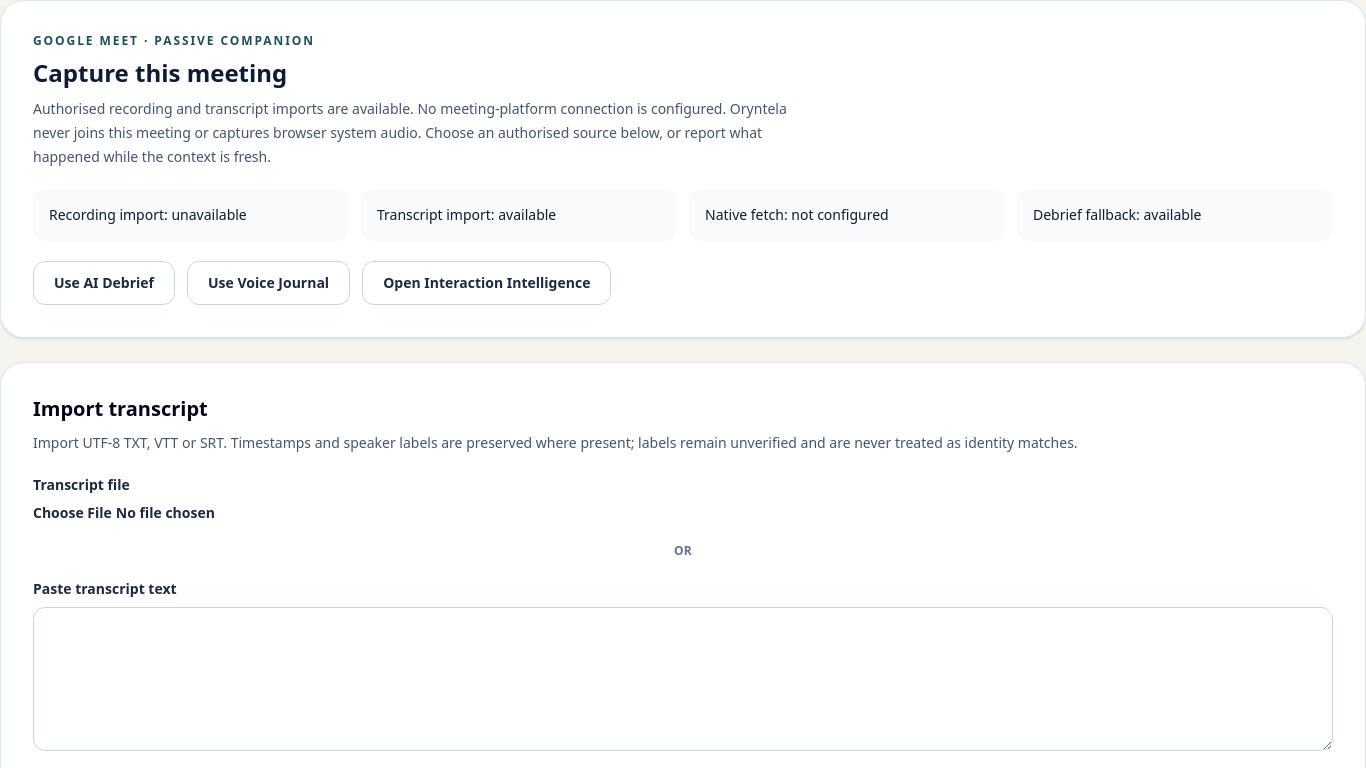
OnlineMeetingCapture › shows server capabilities and imports an authorised pasted transcript
Expected: the heading "Capture this meeting" is shown, [33,56,287,89]
Expected: the list item "Native fetch: not configured" is shown, [689,189,1005,241]
Step 1. Type "Customer: Ready to pilot" into the text box labelled "Paste transcript text" → coordinates (683, 679), box [33,607,1333,751]
(page scrolled)
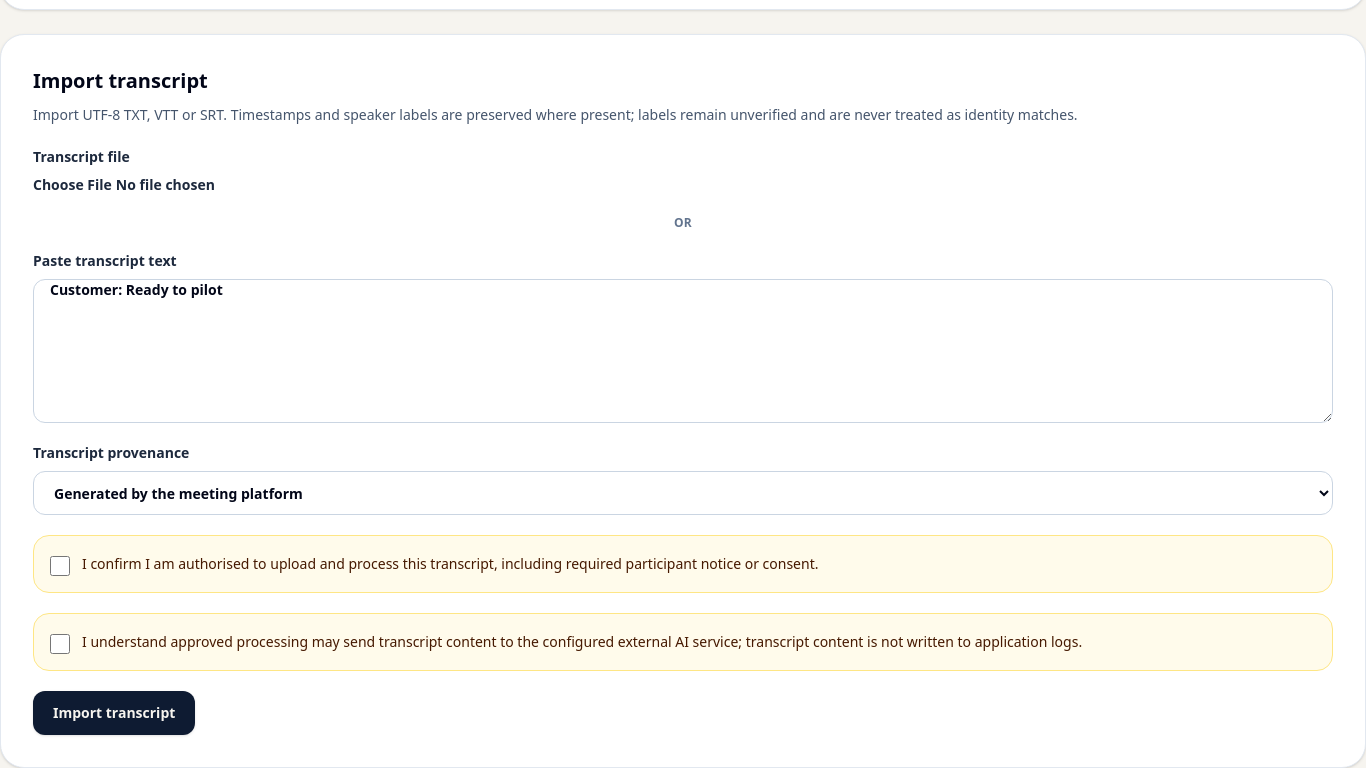
Step 2. Click the 1st checkbox → coordinates (60, 566), box [50,556,70,576]
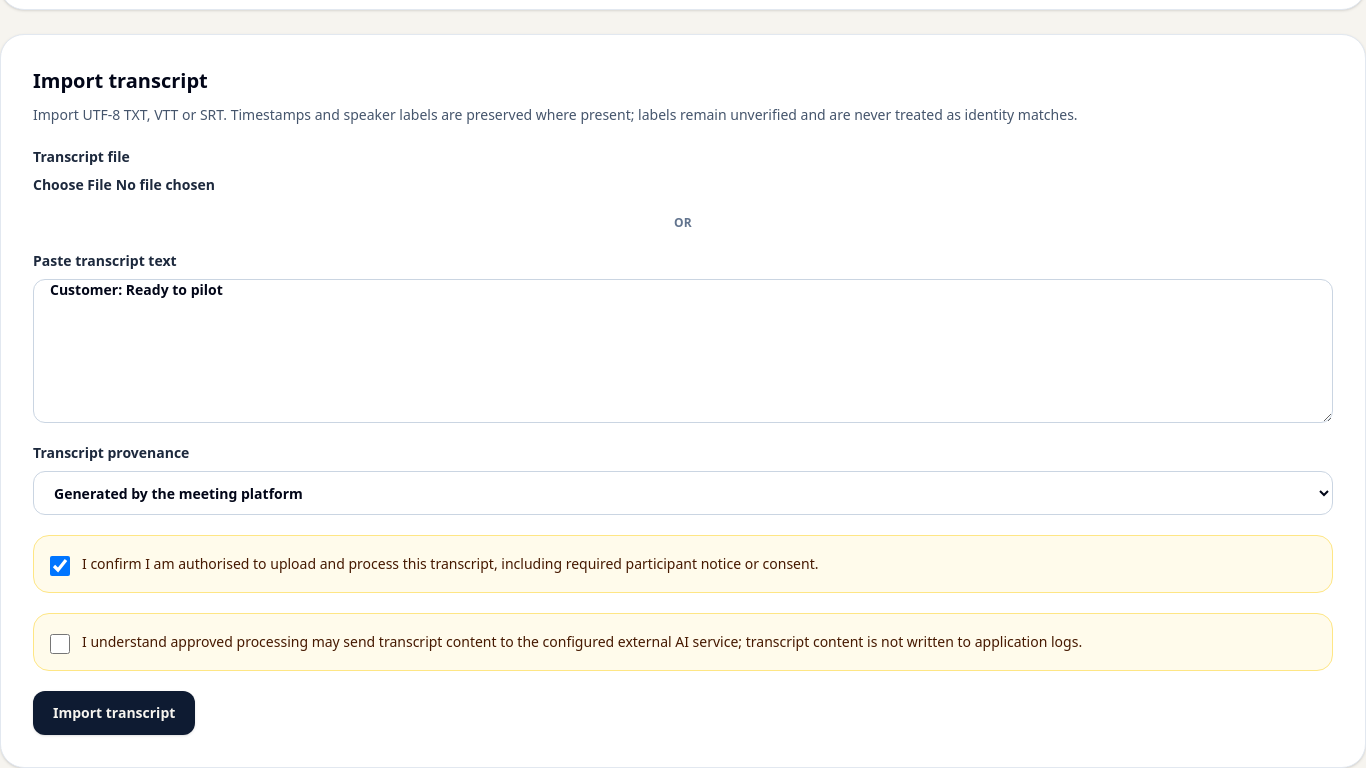
Step 3. Click the 2nd checkbox → coordinates (60, 644), box [50,634,70,654]
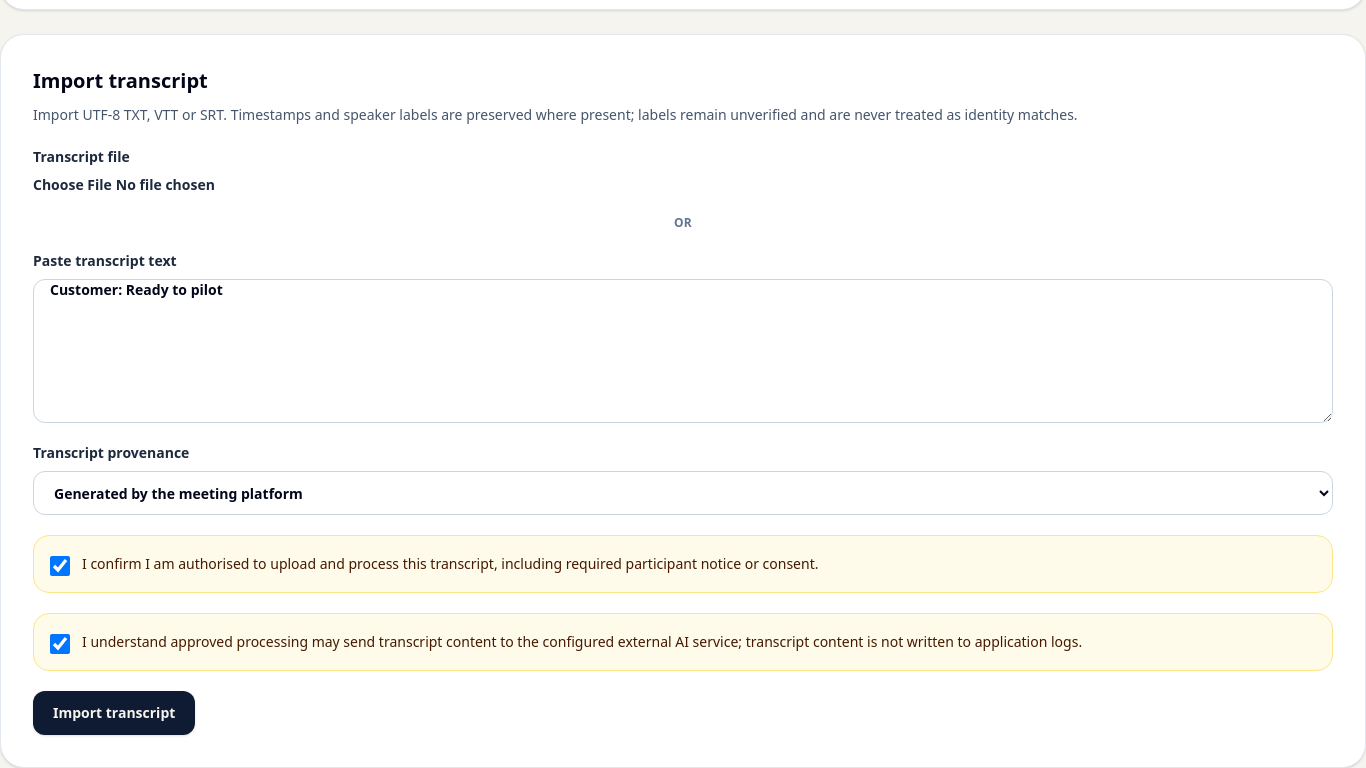
Step 4. Click the button "Import transcript" → coordinates (114, 713), box [33,691,195,735]
(page scrolled)
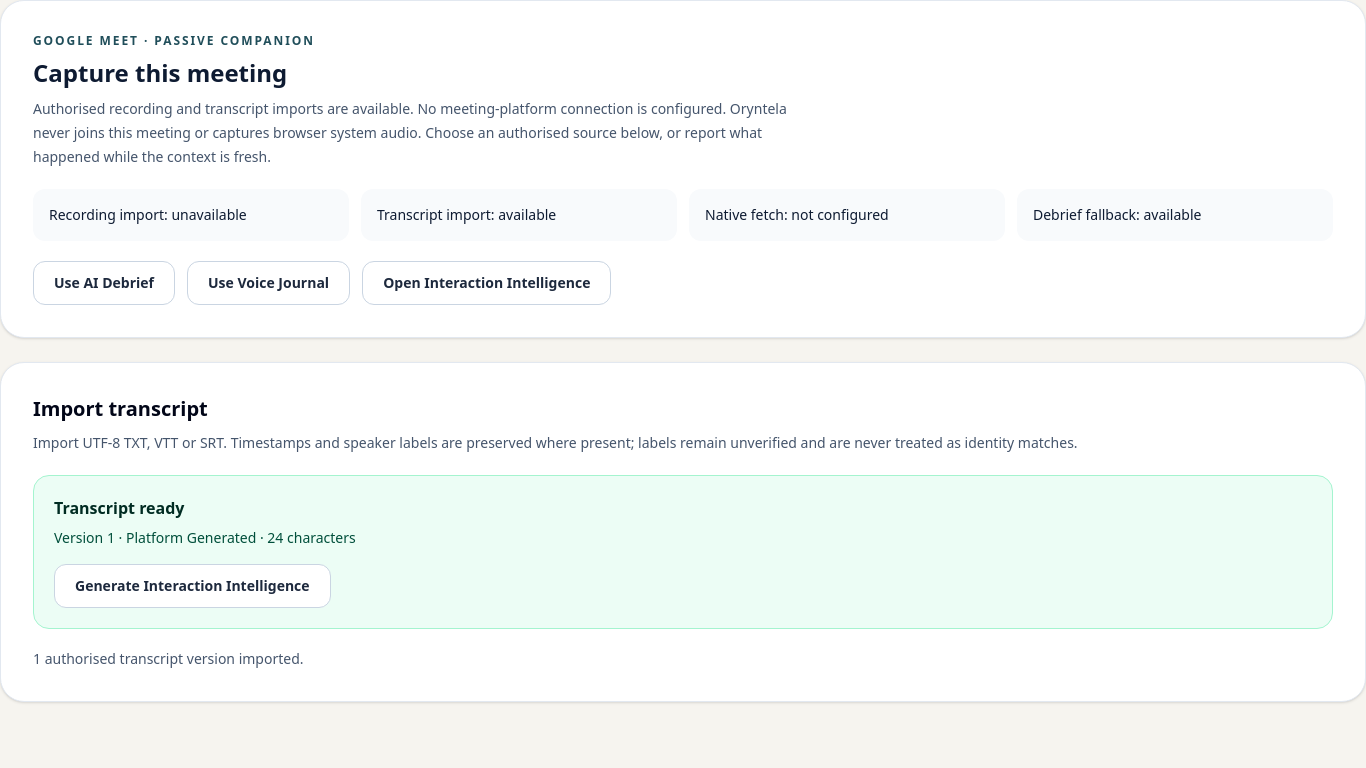
Result: the text "Transcript ready" is shown at [54,497,184,519]
